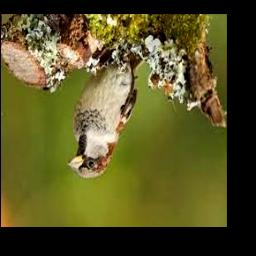Sparrow: (67, 52, 145, 178)
